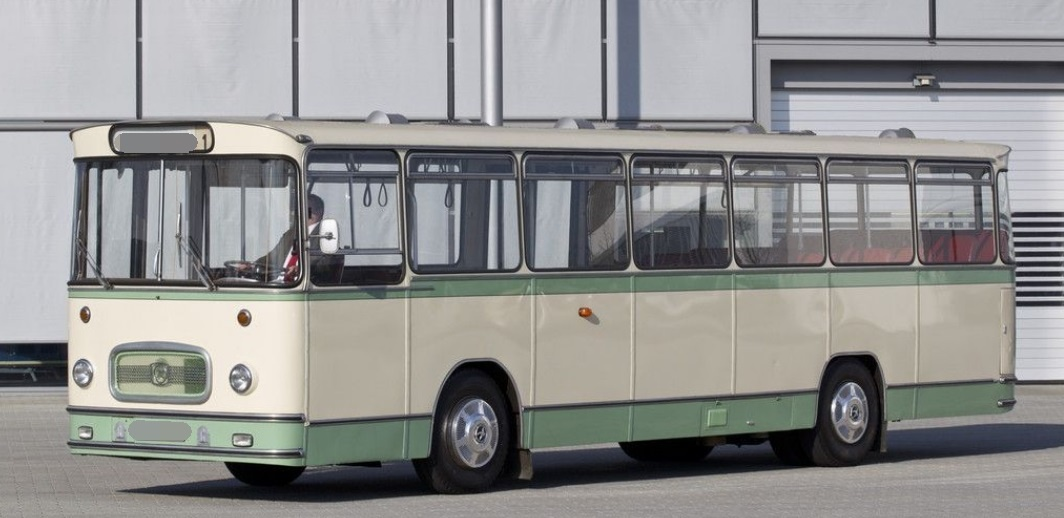bus: (28, 93, 1046, 502)
